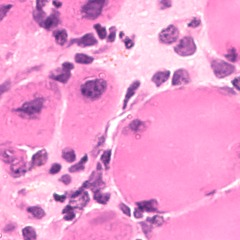New: (62, 68, 119, 154), (1, 76, 60, 148), (44, 1, 128, 31)
